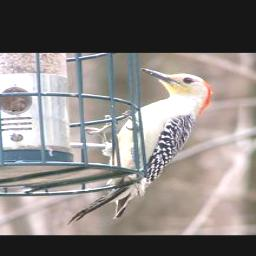Woodpecker: (66, 65, 215, 225)
